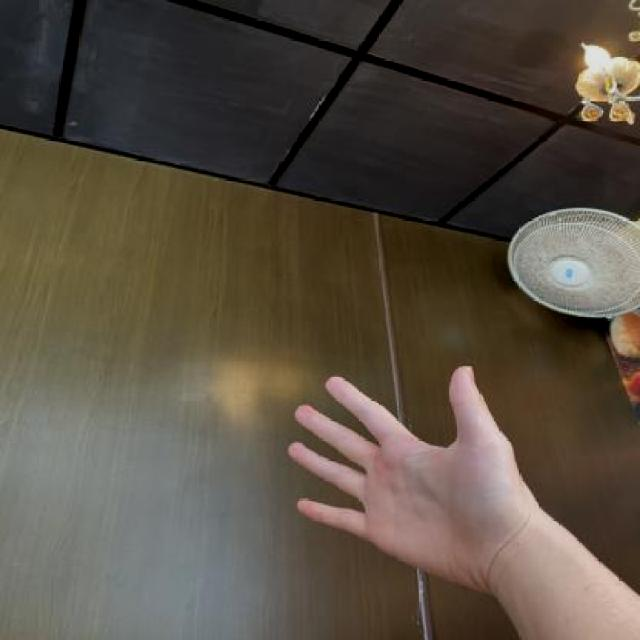no_glove: (276, 349, 555, 588)
